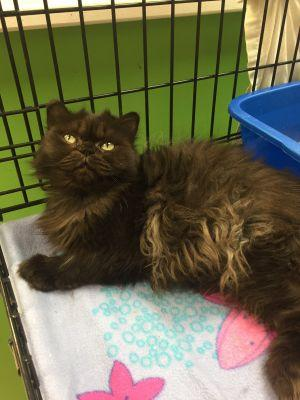persian: (34, 93, 145, 199)
